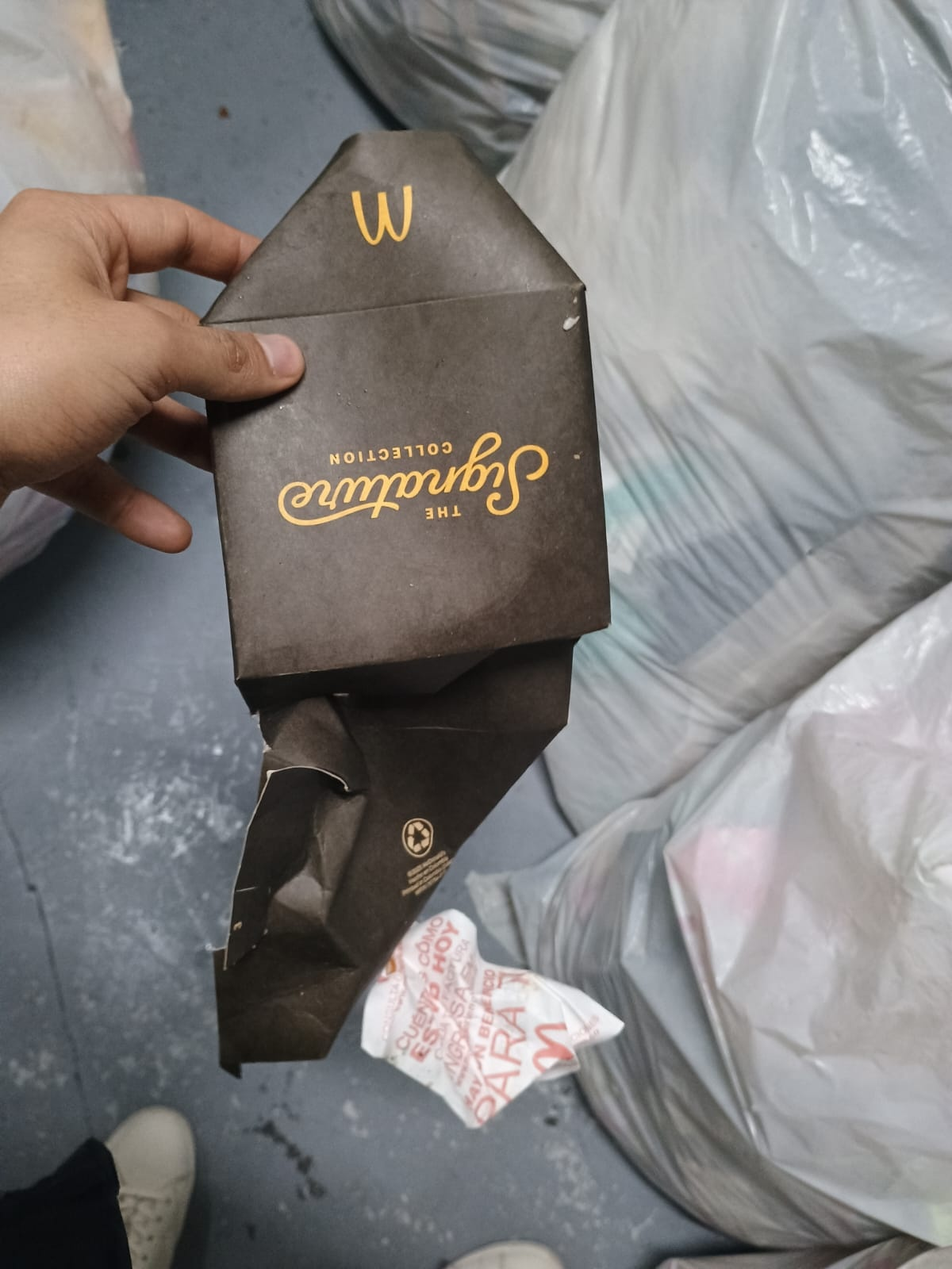Carton: (198, 127, 614, 1065)
